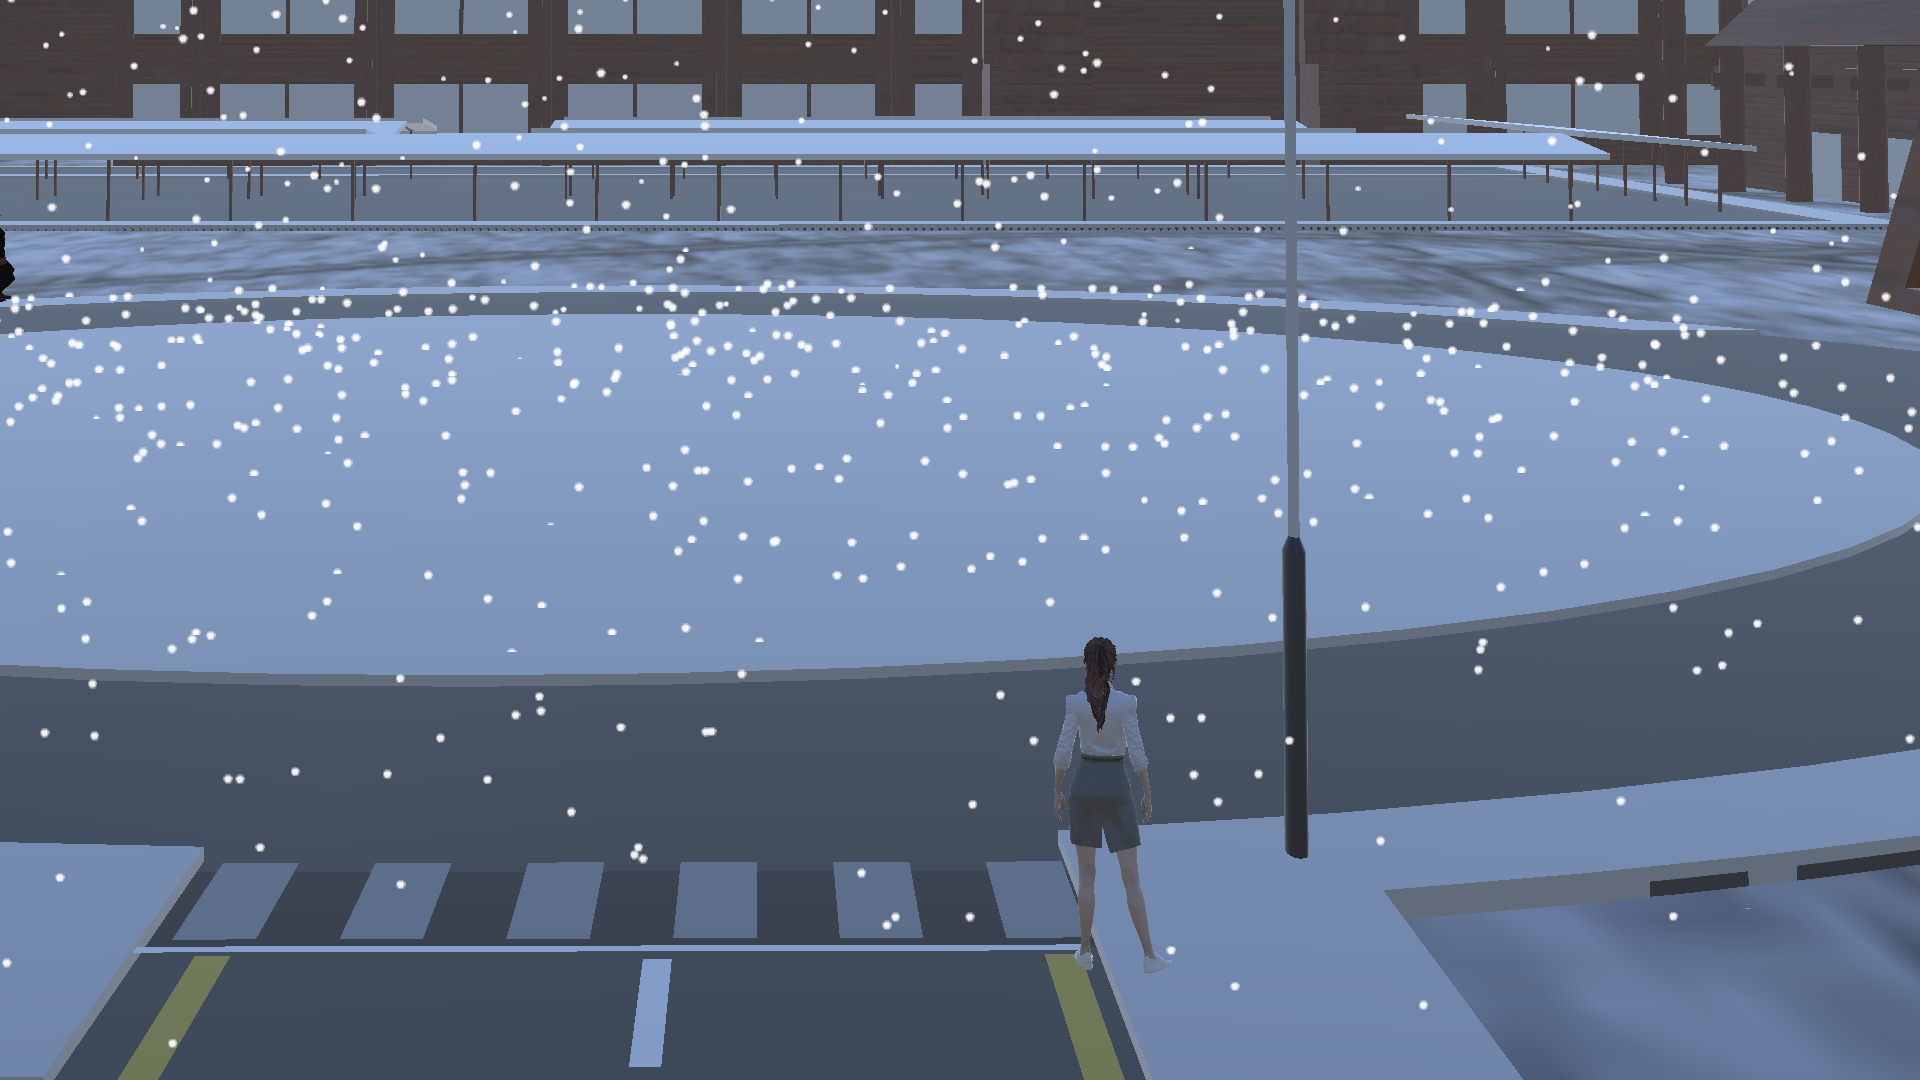pedestrian: (1044, 630, 1179, 977)
